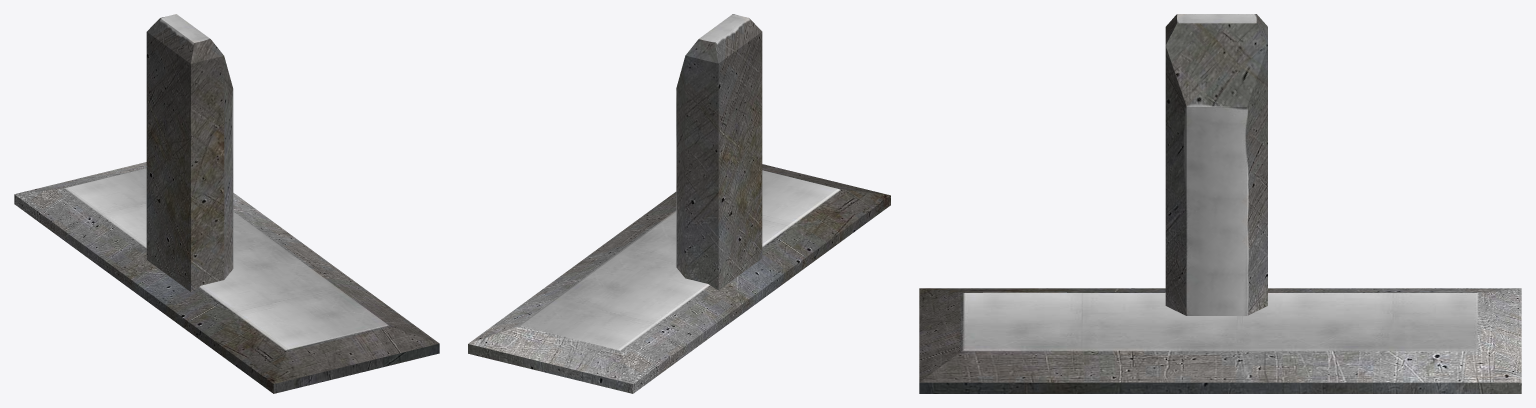
The model's file is Pie Balanza.FBX.
3 renders of one model, left to right at view 1: azimuth 30°, elevation 25°; view 2: azimuth 150°, elevation 25°; view 3: azimuth 270°, elevation 25°, orthographic. The views are drawn at different scales.
Visible parts, largest first — view 1: Pie Balanza; view 2: Pie Balanza; view 3: Pie Balanza.
Boxes of the visible parts, x1,y1,x2,y2 form: Pie Balanza: [14, 14, 439, 393]; Pie Balanza: [468, 14, 890, 393]; Pie Balanza: [919, 14, 1521, 393].
Bounding box in the file's own units: 22.18 × 33.5 × 60.
